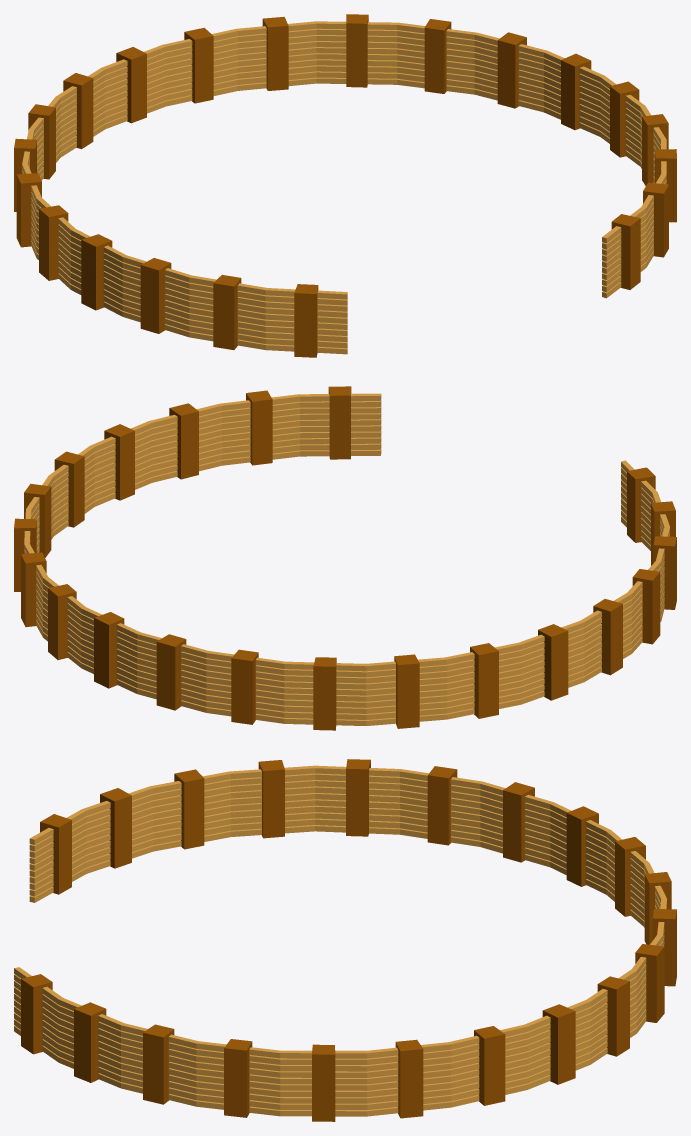
File: FunLargeLvl1.fbx
3 views of the same model, one above another, from view 1: azimuth 30°, elevation 25°; view 2: azimuth 150°, elevation 25°; view 3: azimuth 270°, elevation 25° (orthographic). The views are drawn at different scales.
Parts seen in each view (by area): view 1: FenceL1; view 2: FenceL1; view 3: FenceL1.
Part boxes in pixels (bbox=[...]): FenceL1: bbox=[14, 14, 676, 357]; FenceL1: bbox=[14, 386, 676, 730]; FenceL1: bbox=[14, 759, 676, 1121].
Bounding box in the file's own units: 496 × 52.62 × 470.
